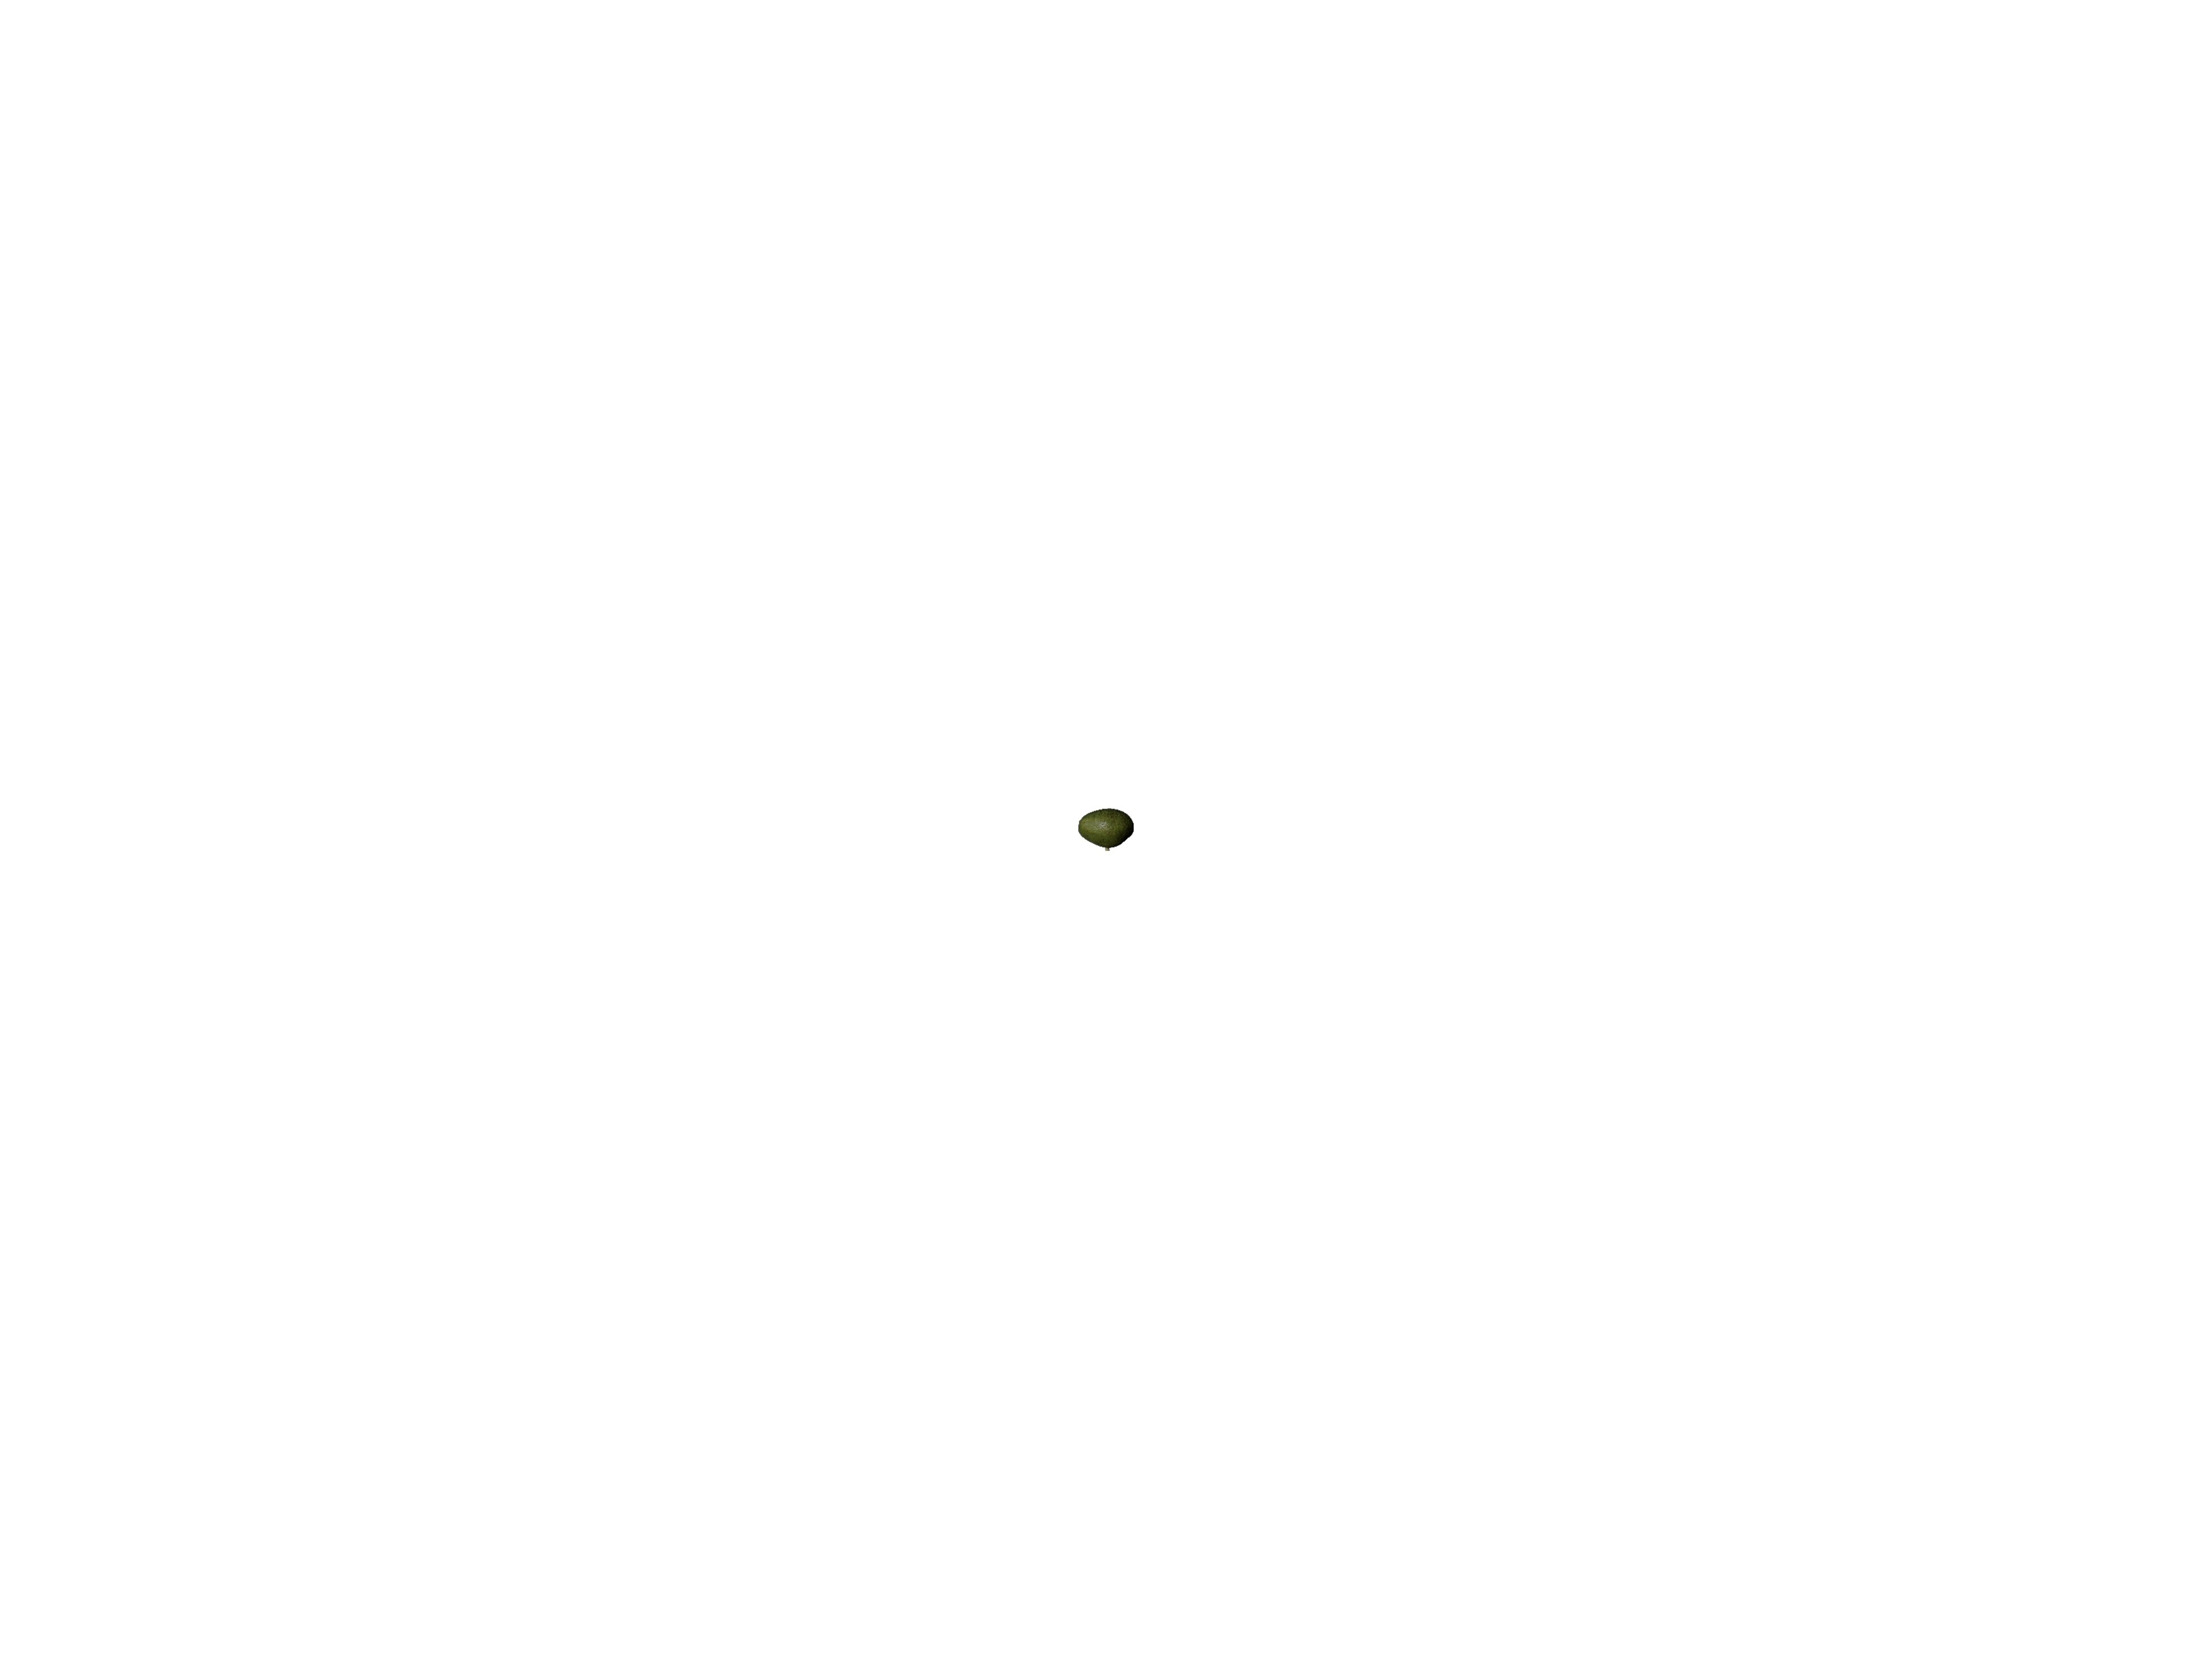abacate: (1069, 805, 1139, 852)
